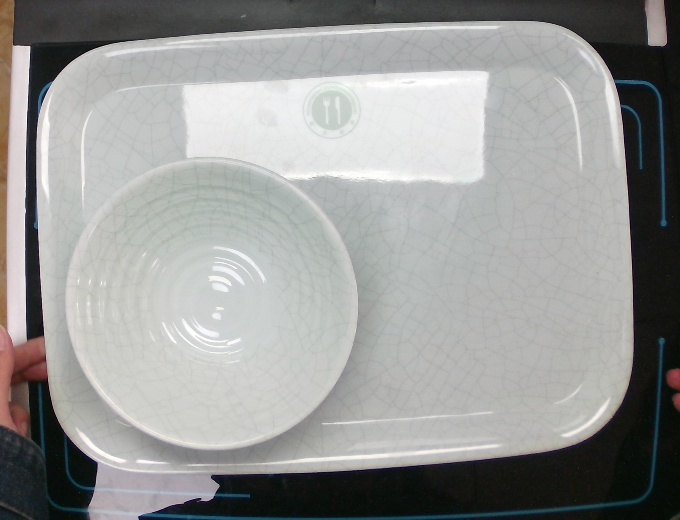JYsf-Xiao_Tang_Wan: (49, 150, 361, 454)
